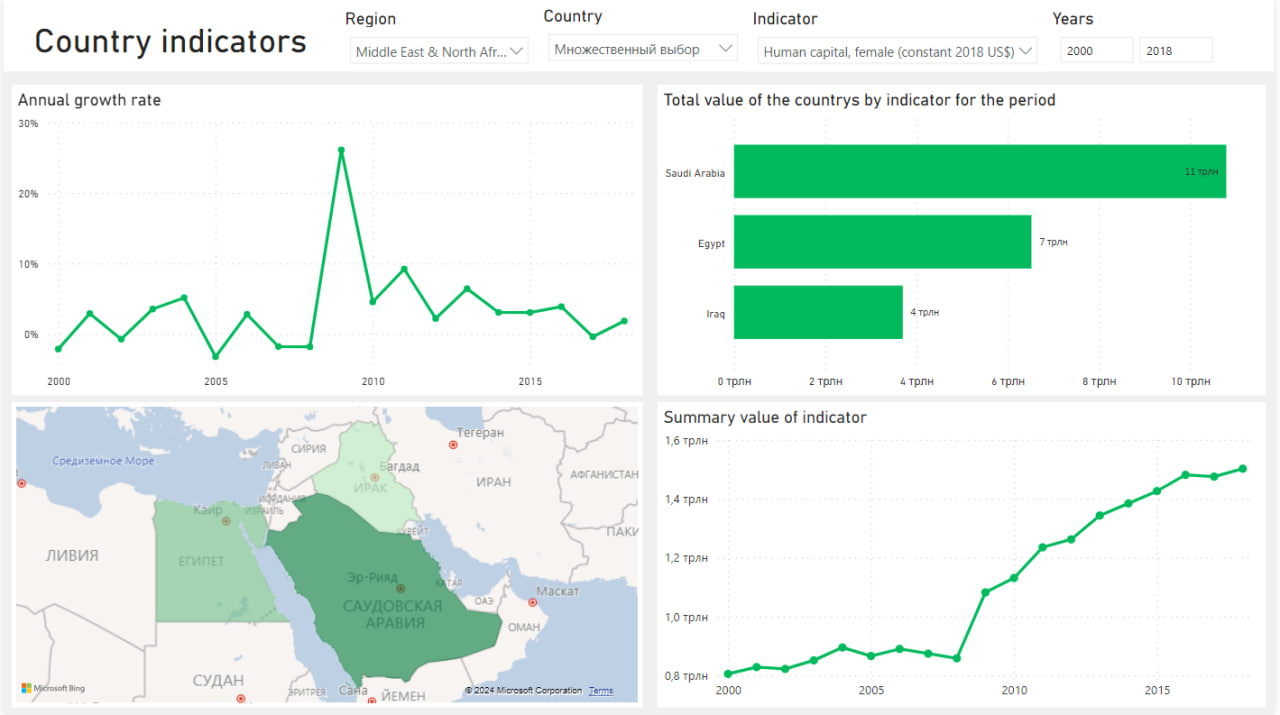

The dashboard page shown, as its layout file describes it:
{"tool":"powerbi","page":{"name":"Страница 1","canvas":[1280,720],"ordinal":0},"visuals":[{"type":"textbox","box":[0,0,1280,72.2],"z":0},{"type":"lineChart","title":"Summary value of indicator","fields":{"Category":["public data.year"],"Y":["Sum(public data.value)"]},"box":[659.1,405.5,612.7,308.2],"z":1000},{"type":"filledMap","fields":{"Category":["public country.long_name","public data.value"]},"box":[8.2,405.5,636.4,308.2],"z":2000},{"type":"slicer","title":"Region","fields":{"Values":["public country.region"]},"box":[338.9,7.8,200,62.2],"z":3000},{"type":"slicer","title":"Country","fields":{"Values":["public country.short_name"]},"box":[538.9,5.6,211.1,65.6],"z":4000},{"type":"slicer","title":"Indicator","fields":{"Values":["public series.indicator_name"]},"box":[750,7.8,302.2,64.4],"z":5000},{"type":"barChart","title":"         Total value of the countrys by indicator for the period","fields":{"Category":["public country.short_name"],"Y":["Sum(public data.value)"]},"box":[659.1,85.5,612.7,312.7],"z":6000},{"type":"slicer","title":"  Years","fields":{"Values":["public data.year"]},"box":[1052.2,7.8,173.3,63.3],"z":7000},{"type":"lineChart","title":"Annual growth rate","fields":{"Category":["public data.year"],"Y":["public data.Growth Rate"]},"box":[8.2,85.5,636.4,312.7],"z":8000}]}

Visuals, with their boxes in screenshot pixels (x1, y1, x2, y2), scaled from the page's 1280x720 canvas onto the 1280x715 screenshot:
textbox: rect(0, 0, 1279, 72)
"Summary value of indicator" lineChart: rect(659, 403, 1272, 709)
filledMap - public country.long_name x public data.value: rect(8, 403, 645, 709)
"Region" slicer: rect(339, 8, 539, 70)
"Country" slicer: rect(539, 6, 750, 71)
"Indicator" slicer: rect(750, 8, 1052, 72)
"         Total value of the countrys by indicator for the period" barChart: rect(659, 85, 1272, 395)
"  Years" slicer: rect(1052, 8, 1226, 71)
"Annual growth rate" lineChart: rect(8, 85, 645, 395)
